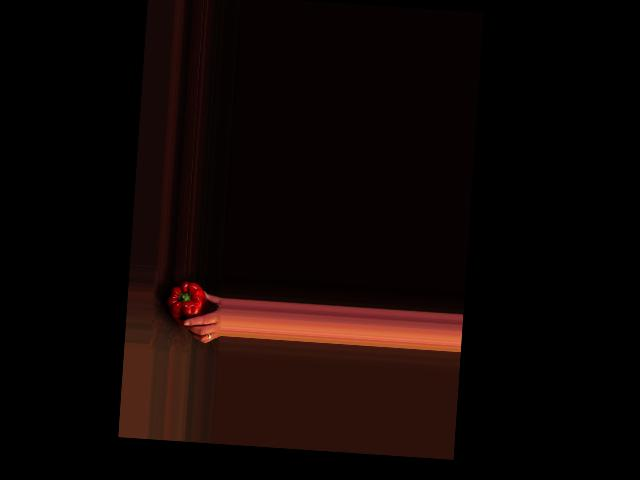bell_pepper: (164, 279, 209, 325)
